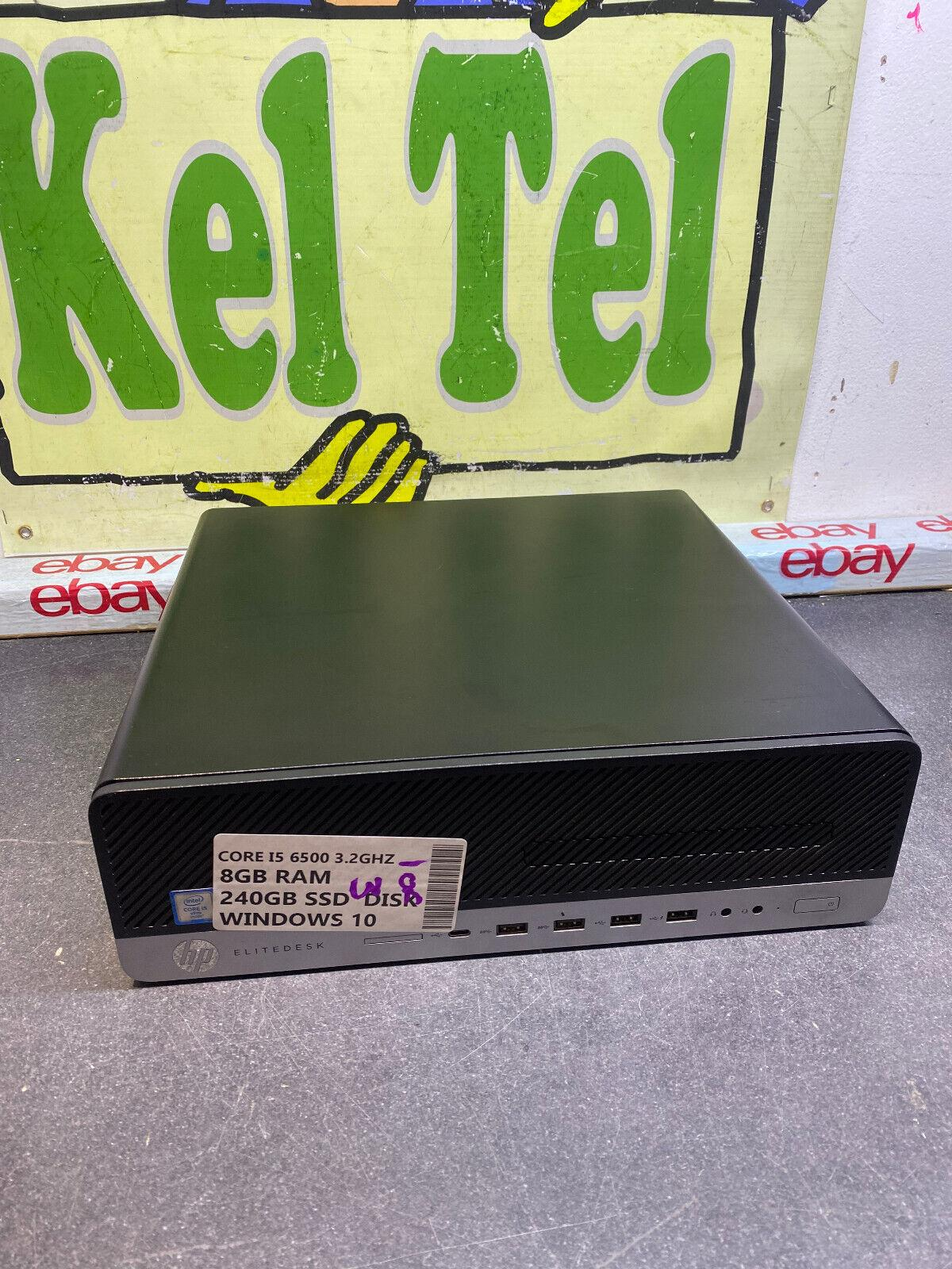computer_tower: (74, 496, 929, 986)
